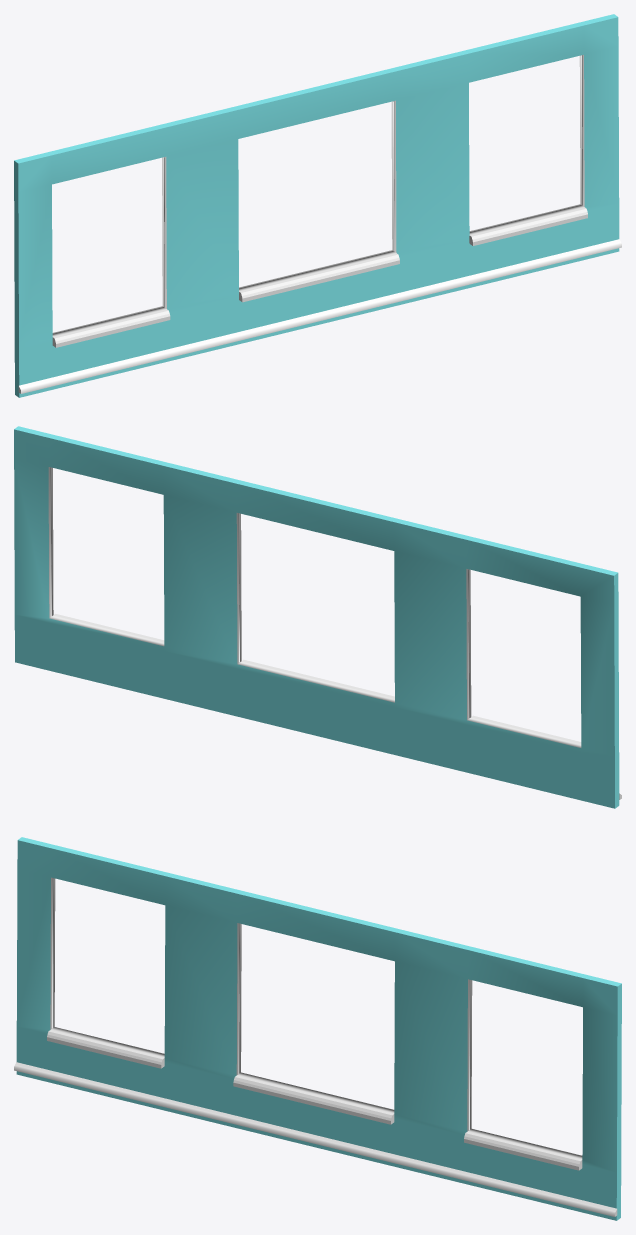
The model's file is wall_one_RA.obj.
3 renders of one model, top to bottom at view 1: azimuth 30°, elevation 25°; view 2: azimuth 150°, elevation 25°; view 3: azimuth 330°, elevation 25°, orthographic.
Visible parts, largest first — view 1: polySurface12; view 2: polySurface12; view 3: polySurface12.
Boxes of the visible parts, left/top/right/bottom form: polySurface12: left=14, top=14, right=621, bottom=397; polySurface12: left=14, top=426, right=621, bottom=808; polySurface12: left=14, top=837, right=621, bottom=1220.
Bounding box in the file's own units: 7.17 × 2.67 × 0.1755.
